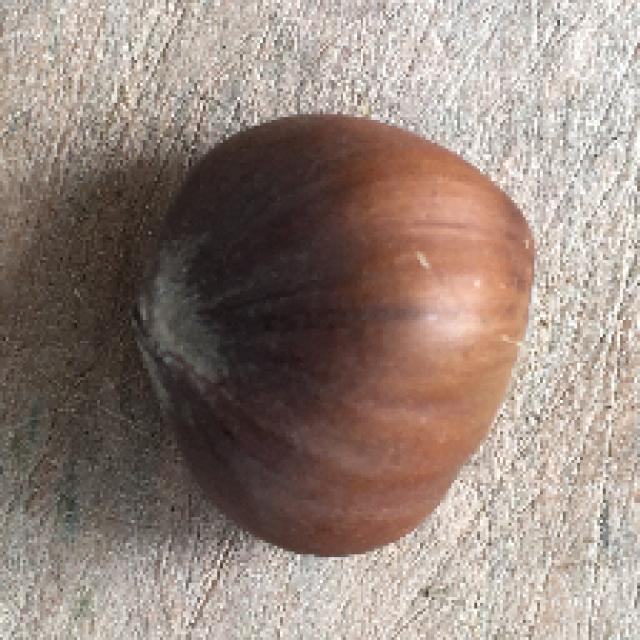damagedHazelnut: (108, 93, 571, 566)
